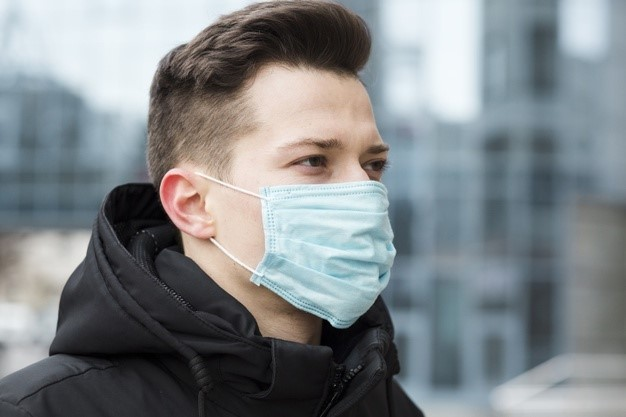face_with_mask: (162, 32, 400, 330)
